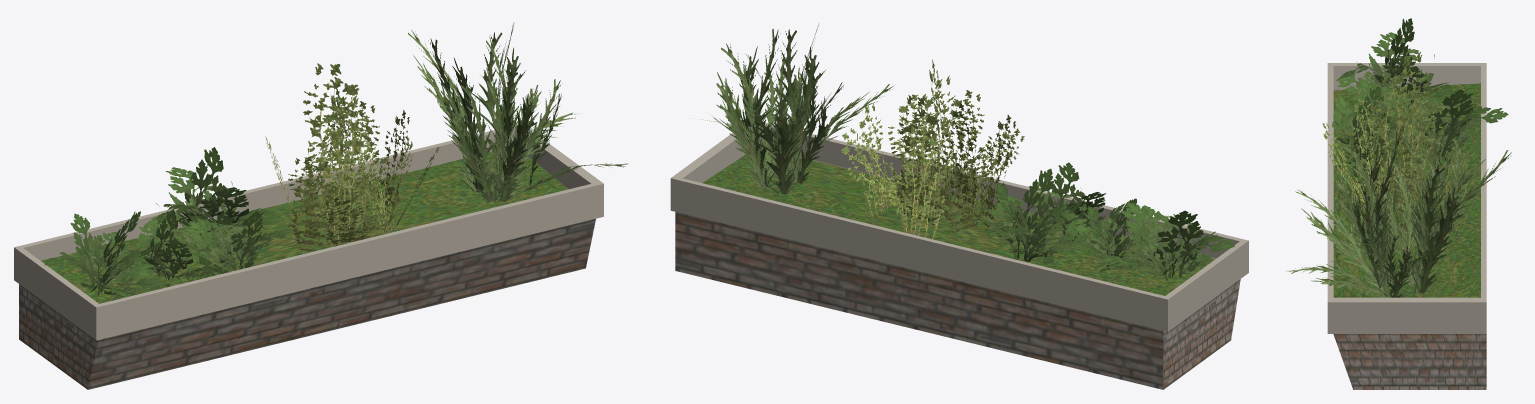
Rendered from plant.fbx.
3 views of the same model, side by side, from view 1: azimuth 30°, elevation 25°; view 2: azimuth 150°, elevation 25°; view 3: azimuth 270°, elevation 25° (orthographic). The views are drawn at different scales.
Parts seen in each view (by area): view 1: Object_10; view 2: Object_10; view 3: Object_10.
Part boxes in pixels (bbox=[...]): Object_10: bbox=[14, 22, 627, 389]; Object_10: bbox=[670, 25, 1248, 389]; Object_10: bbox=[1286, 18, 1511, 389].
Bounding box in the file's own units: 210 × 86.67 × 80.65.
Materials: 1 (1 with a texture image).
